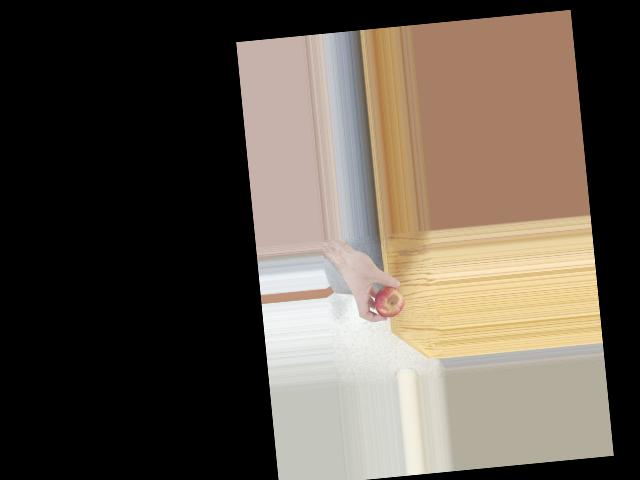apple: (366, 276, 407, 321)
